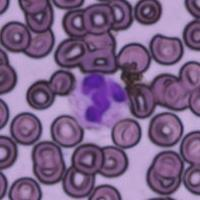N: (70, 71, 130, 130)
